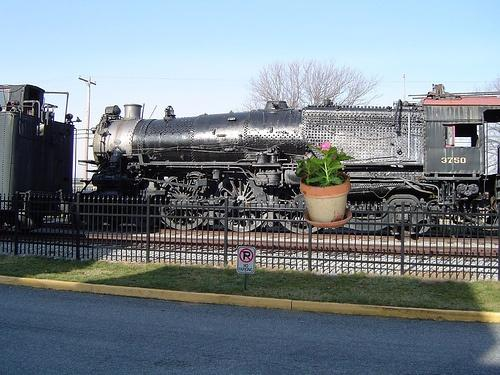tampered: (296, 141, 355, 228)
